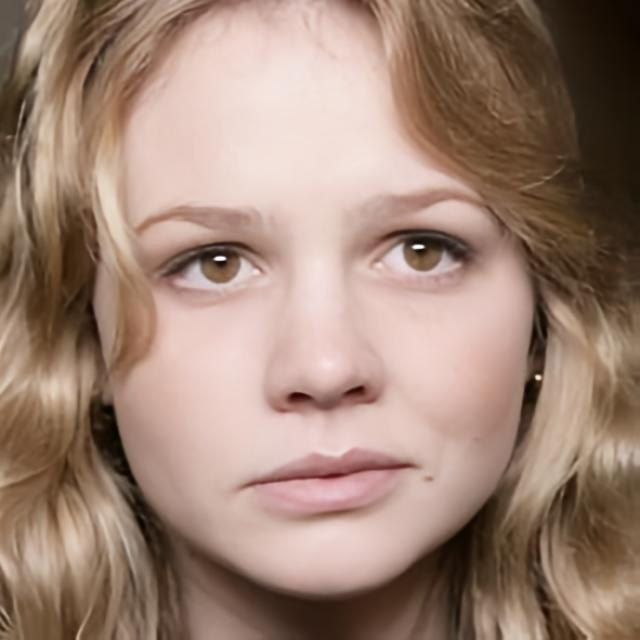neutral: (92, 0, 536, 604)
